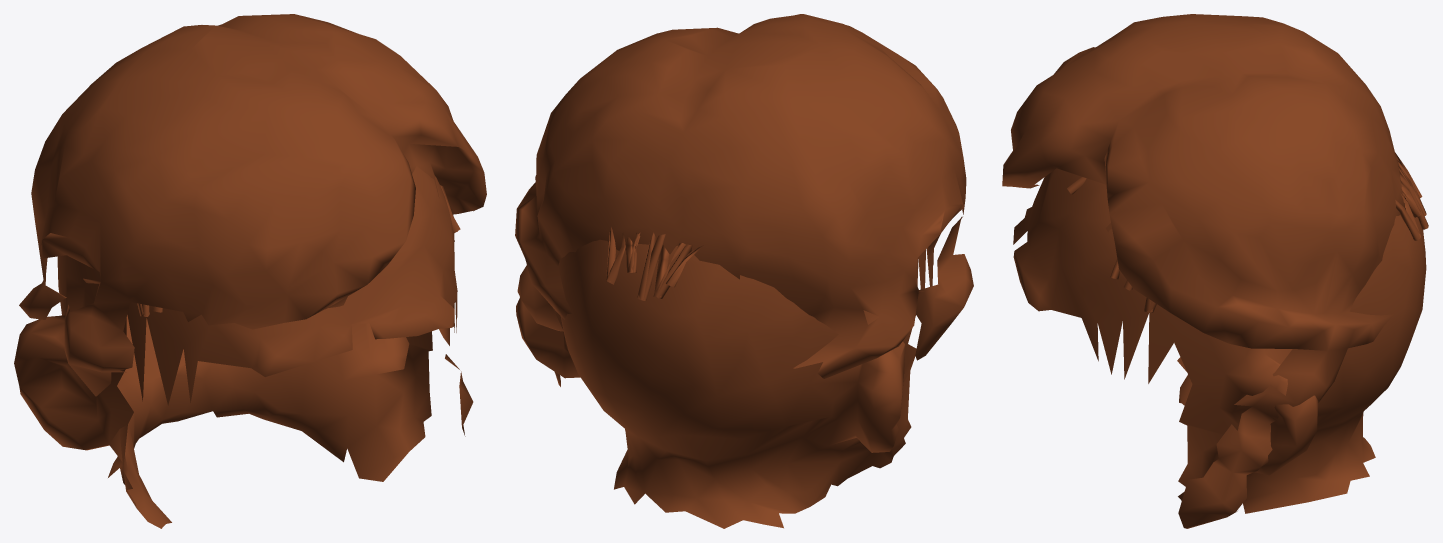
File: braid.glb
The picture shows the model from 3 angles, left to right: view 1: azimuth 30°, elevation 25°; view 2: azimuth 150°, elevation 25°; view 3: azimuth 270°, elevation 25°; orthographic projection. The views are drawn at different scales.
Parts seen in each view (by area): view 1: Hair, HairScalp; view 2: Hair, HairScalp, HairPulledRootStrands; view 3: Hair, HairScalp, HairPulledRootStrands.
Part boxes in pixels (x1=…): Hair: x1=19, y1=14, x2=486, y2=436; HairScalp: x1=14, y1=166, x2=457, y2=528; Hair: x1=515, y1=14, x2=973, y2=386; HairScalp: x1=516, y1=239, x2=933, y2=528; HairPulledRootStrands: x1=606, y1=227, x2=703, y2=300; Hair: x1=1002, y1=14, x2=1404, y2=528; HairScalp: x1=1013, y1=168, x2=1426, y2=513; HairPulledRootStrands: x1=1067, y1=152, x2=1428, y2=312.
Size of the model in its own units: 0.4718 by 0.4853 by 0.4437.
